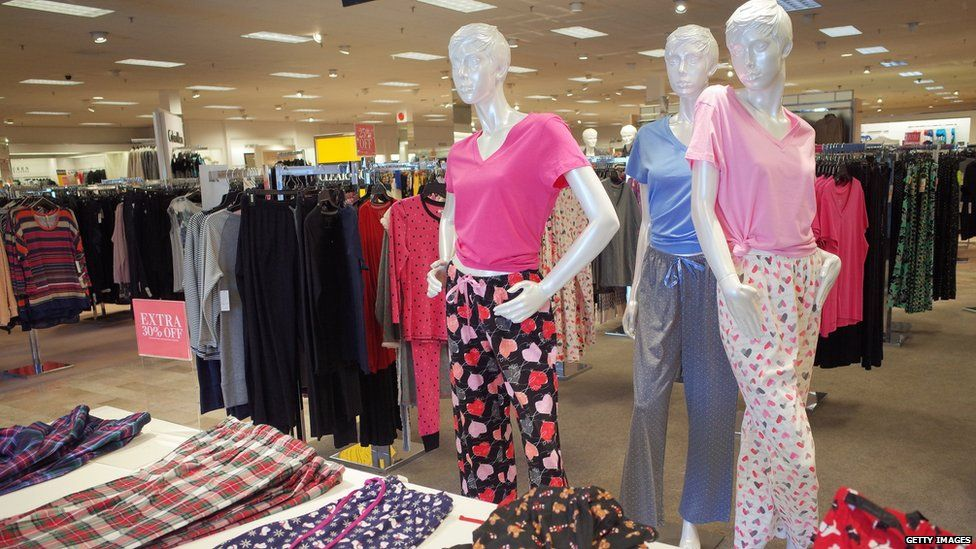person-like: (419, 18, 626, 510), (681, 1, 850, 549), (613, 18, 746, 549)
